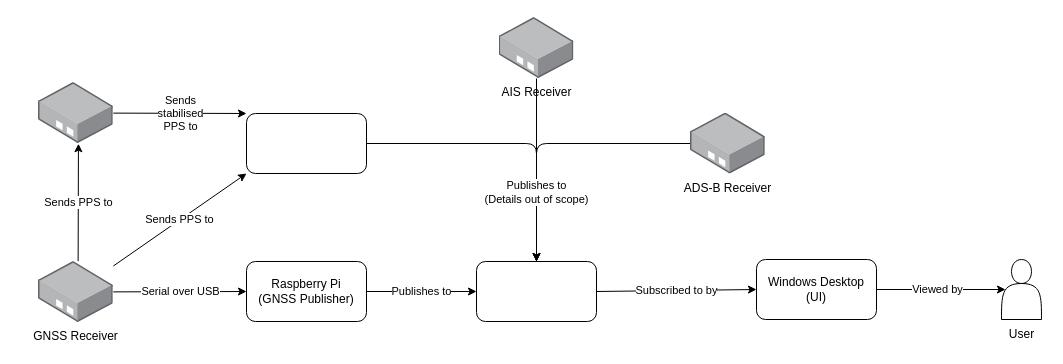
Image size: 1063x364. Some labels were removed from this diagram. The shapes that lost their labels are listed below. From the top down, each one's centre as x and y in pixels, then its label:
[75,112]: Atomic clock (Precision time signal)
[306,143]: Oscilloscope
[536,291]: Raspberry Pi (MQTT Broker)
